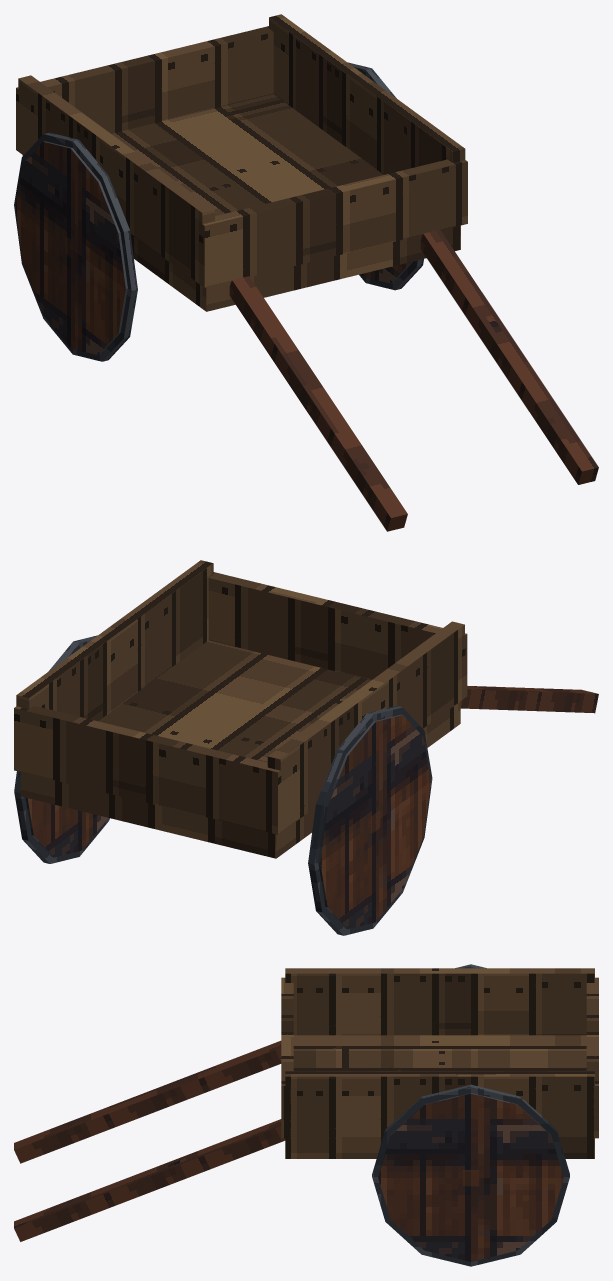
Rendered from MV_Cart.glb.
3 renders of one model, top to bottom at view 1: azimuth 30°, elevation 25°; view 2: azimuth 150°, elevation 25°; view 3: azimuth 270°, elevation 25°, orthographic. The views are drawn at different scales.
Parts seen in each view (by area): view 1: MV_Cart_A.MV_Cart; view 2: MV_Cart_A.MV_Cart; view 3: MV_Cart_A.MV_Cart.
Boxes of the visible parts, x1,y1,x2,y2 form: MV_Cart_A.MV_Cart: (14, 14, 598, 531); MV_Cart_A.MV_Cart: (14, 560, 598, 935); MV_Cart_A.MV_Cart: (14, 964, 598, 1266).
Size of the model in its own units: 1.44 by 0.98 by 2.84.
4 materials, 4 textured.
